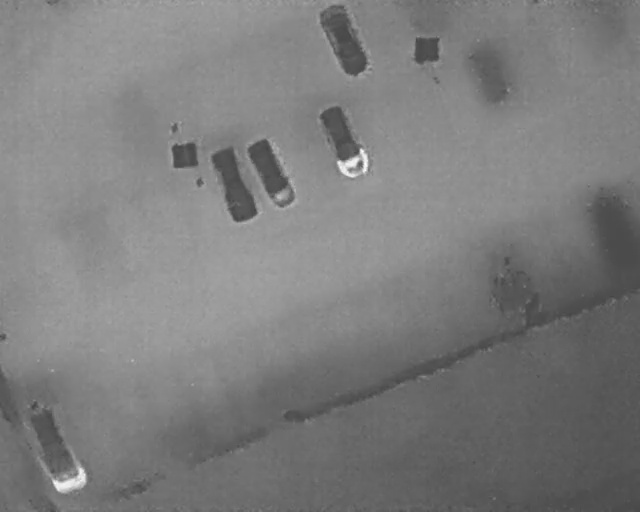Car: (23, 404, 90, 497), (314, 100, 376, 184), (313, 0, 375, 81), (206, 143, 261, 227), (243, 136, 300, 214)
